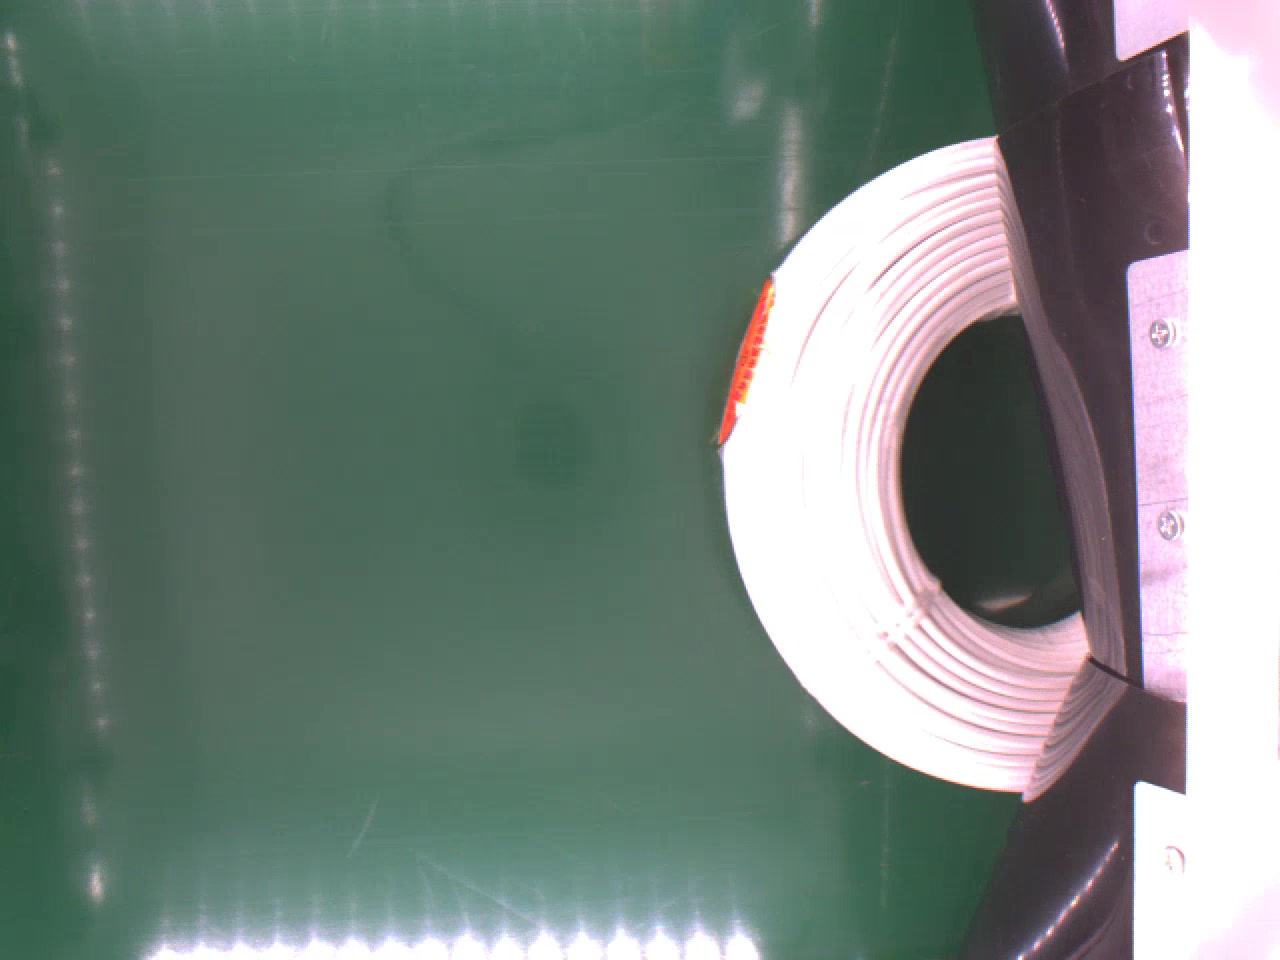white: (715, 136, 1087, 801)
